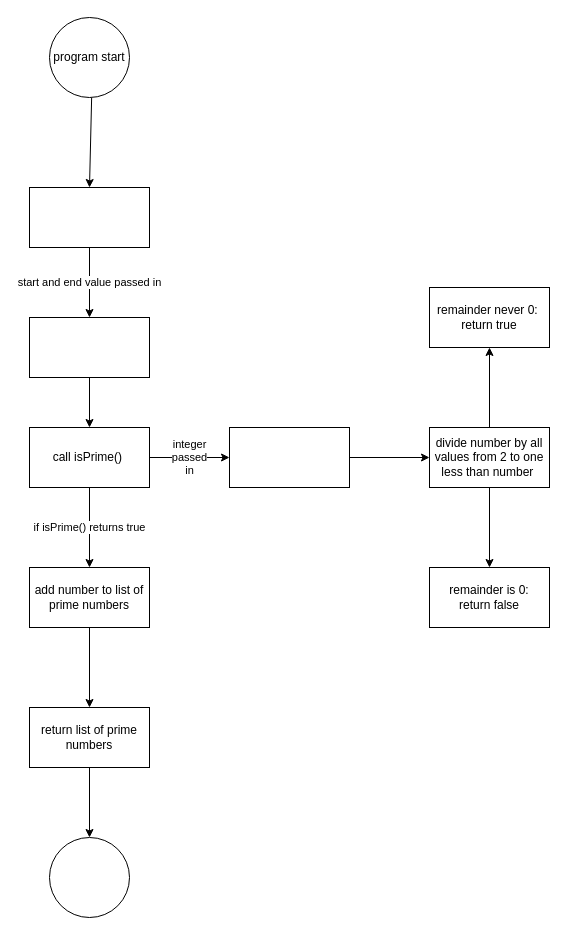
Image size: 567x935. Some labels were removed from this diagram. Here are the shapes that lost their labels. From the top down, the centre of each, then its label:
At point (89, 217): "call primeNumbers()".
At point (89, 347): "loop through all numbers in range".
At point (289, 457): "confirm number is not 0 or 1".
At point (89, 877): "program end".
